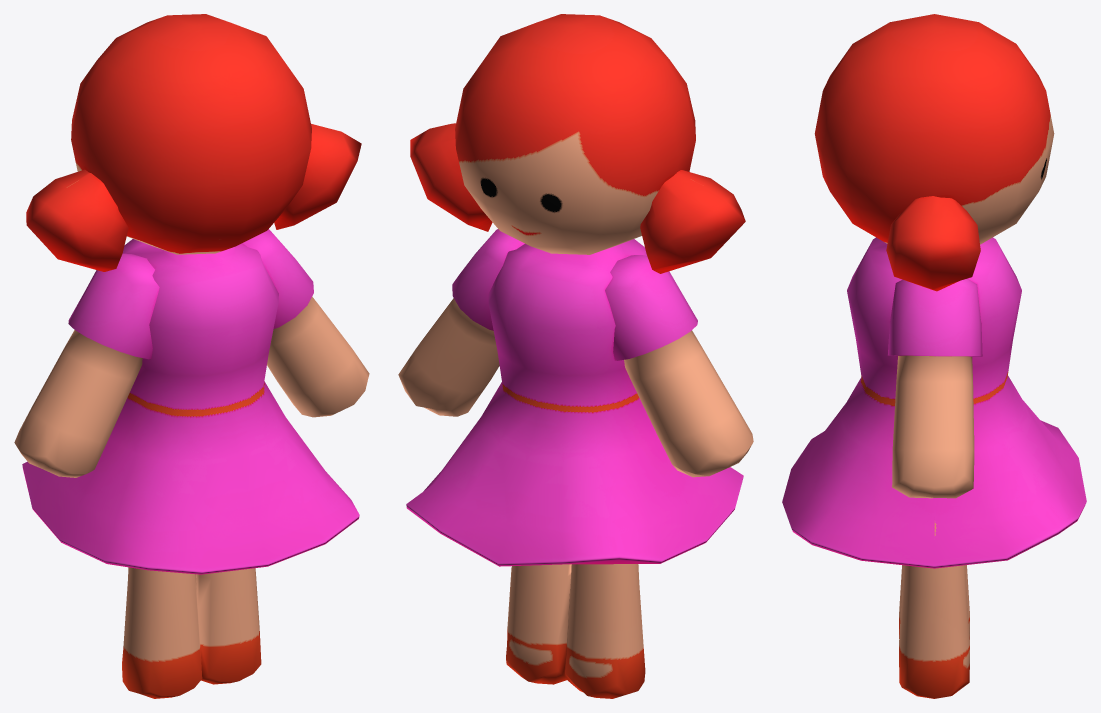
The model's file is bup be.fbx.
3 renders of one model, left to right at view 1: azimuth 30°, elevation 25°; view 2: azimuth 150°, elevation 25°; view 3: azimuth 270°, elevation 25°, orthographic.
Visible parts, largest first — view 1: bup_be2; view 2: bup_be2; view 3: bup_be2.
Part boxes in pixels (x1=…): bup_be2: x1=14, y1=14, x2=369, y2=698; bup_be2: x1=398, y1=14, x2=753, y2=698; bup_be2: x1=782, y1=14, x2=1086, y2=698.
Bounding box in the file's own units: 73.51 × 134 × 57.16.
Materials: 1 (1 with a texture image).
